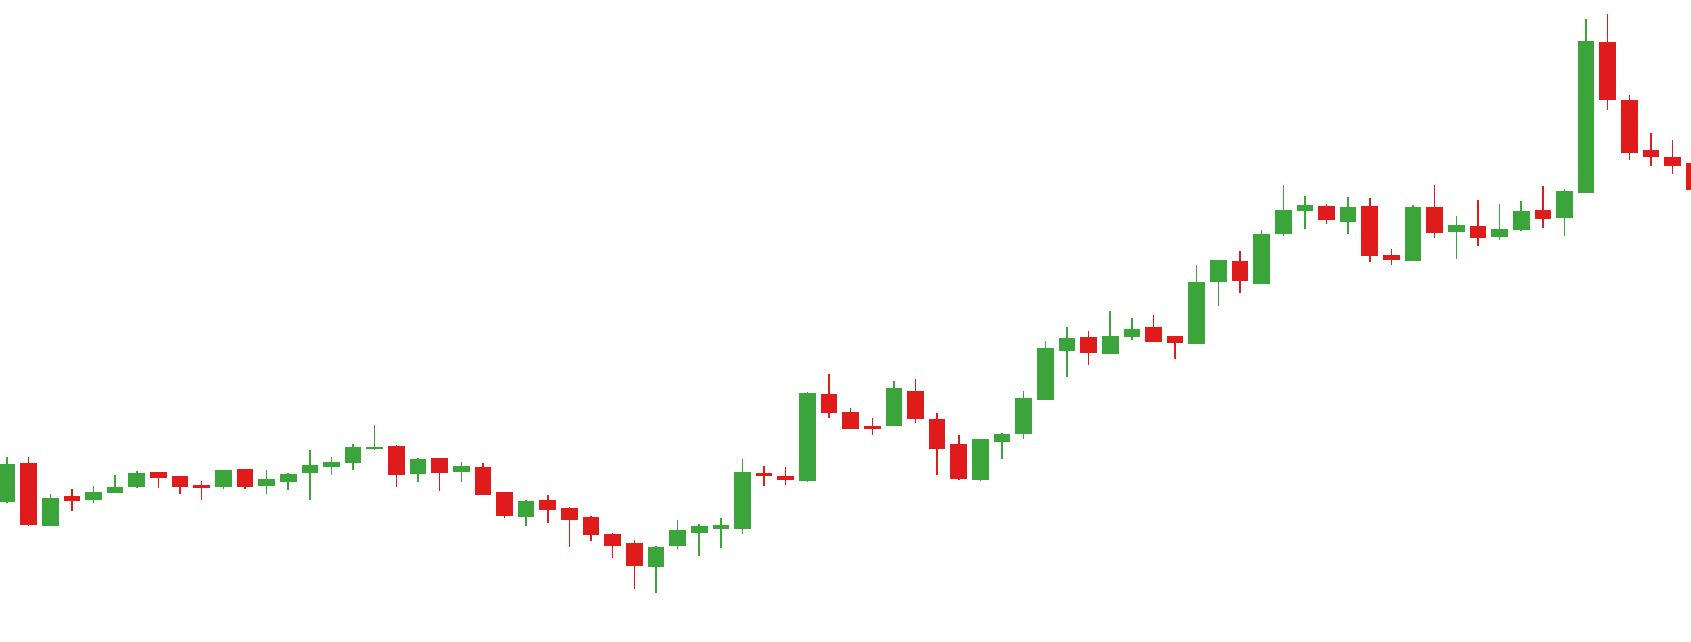buy: (842, 398, 1035, 481)
